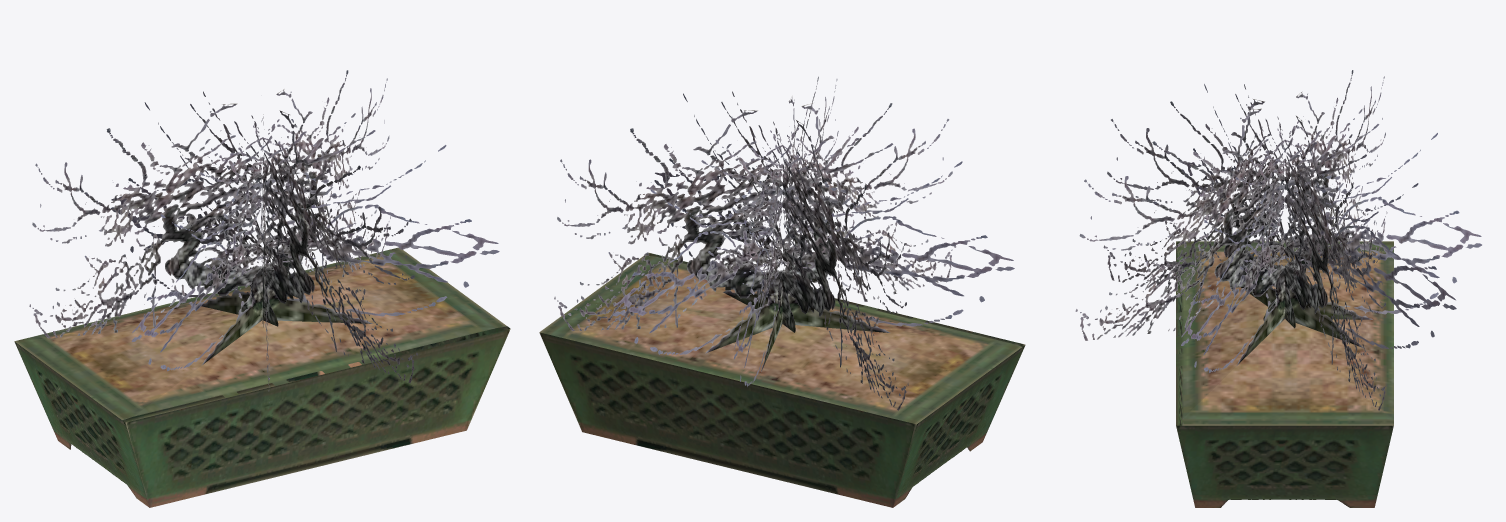
Rendered from it_bonsai02.fbx.
3 views of the same model, side by side, from view 1: azimuth 30°, elevation 25°; view 2: azimuth 150°, elevation 25°; view 3: azimuth 270°, elevation 25° (orthographic). The views are drawn at different scales.
Visible parts, largest first — view 1: mesh_0; view 2: mesh_0; view 3: mesh_0.
Boxes of the visible parts, x1,y1,x2,y2 form: mesh_0: (14,70,510,507); mesh_0: (539,76,1025,507); mesh_0: (1075,70,1481,507).
Bounding box in the file's own units: 40 × 33.02 × 40.14.
Materials: 1 (1 with a texture image).
